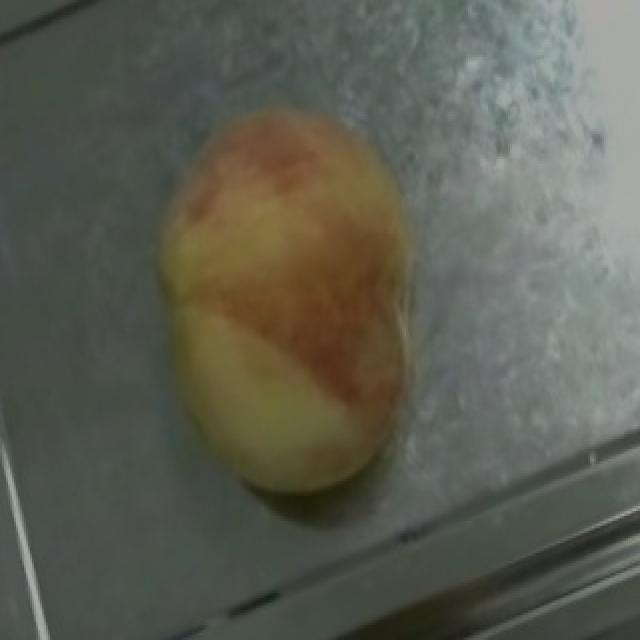Fruit: (122, 67, 462, 414)
